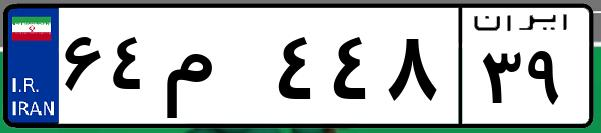3: (475, 38, 525, 113)
4: (270, 28, 330, 110), (330, 28, 385, 110), (110, 28, 158, 98)
6: (57, 26, 110, 100)
8: (385, 28, 445, 110)
9: (525, 38, 570, 115)
م: (158, 20, 270, 120)
